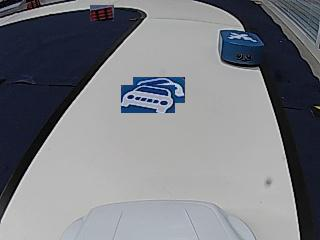prop: (219, 30, 264, 68)
